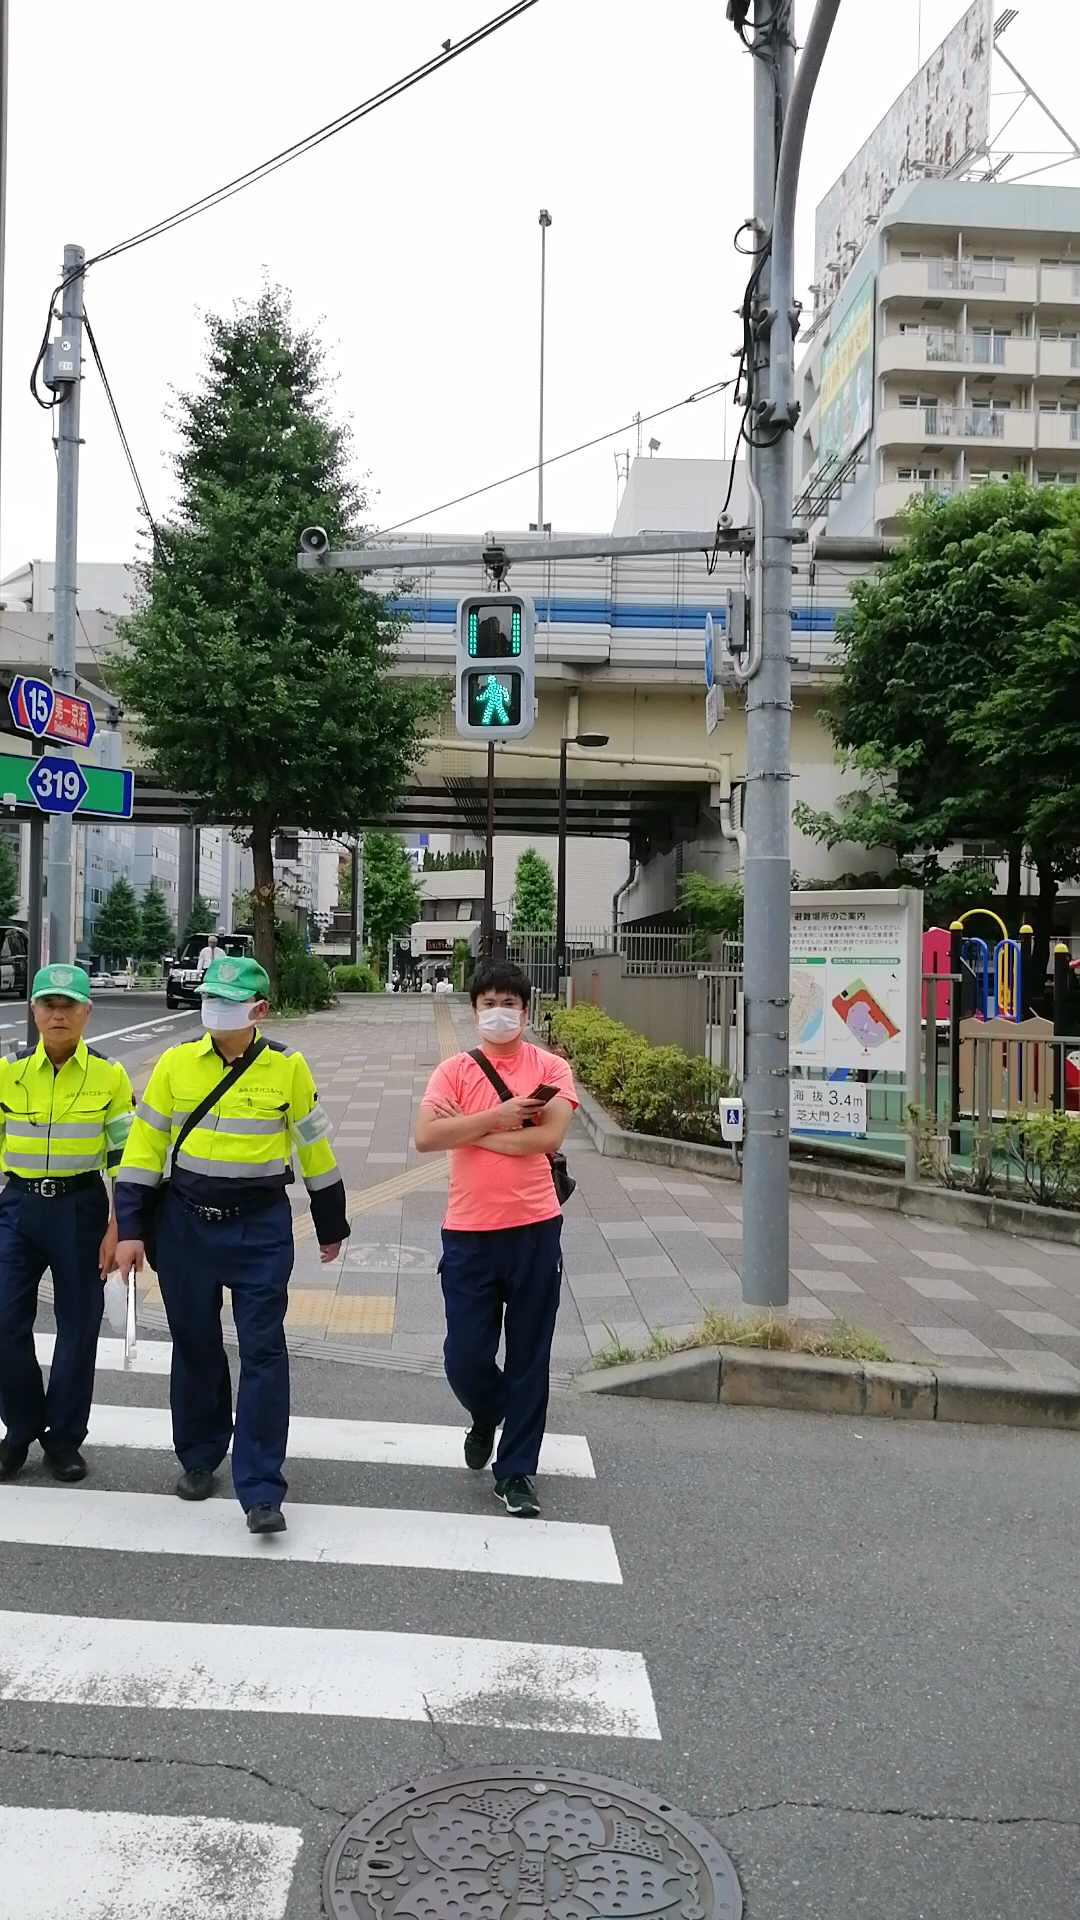green: (456, 591, 535, 745)
